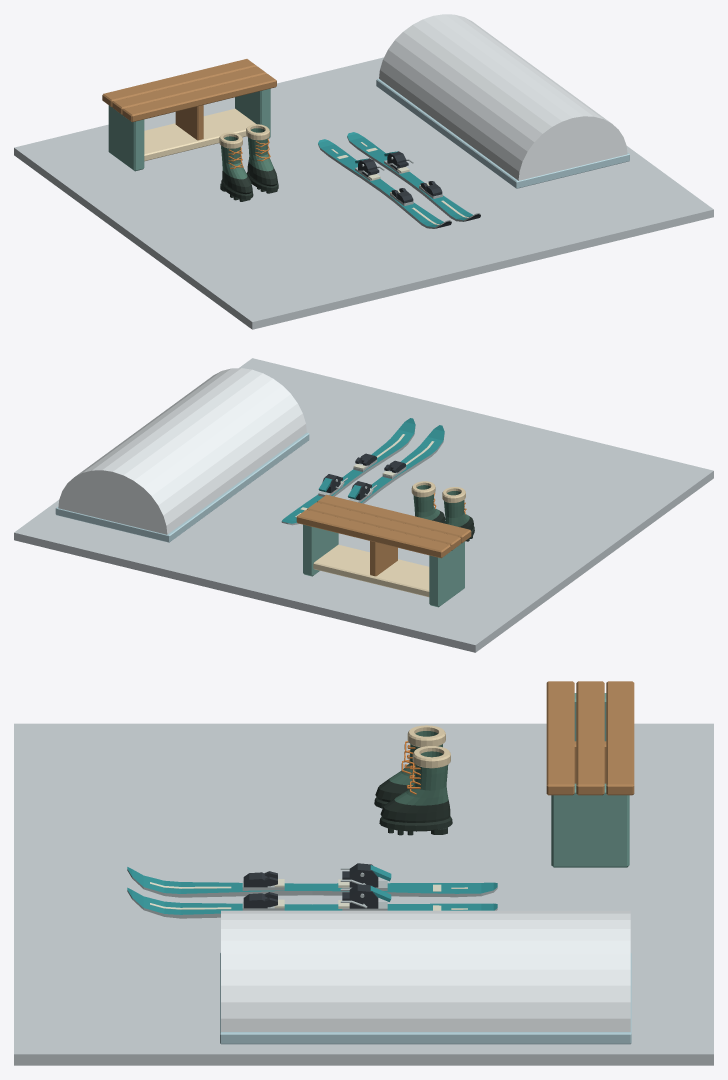
3 renders of one model, top to bottom at view 1: azimuth 30°, elevation 25°; view 2: azimuth 150°, elevation 25°; view 3: azimuth 270°, elevation 25°, orthographic. The views are drawn at different scales.
Visible parts, largest first — view 1: SCENE_ONLY__SnowPreparationPad, whole_snow_boundary__winter-snowbank-01, whole_preparation_bench__entryway-storage-bench-01, whole_staged_ski_pair__Ski_Right_Board, whole_staged_ski_pair__Ski_Left_Board, whole_set_aside_snow_boots__Right_HollowShell, whole_set_aside_snow_boots__Left_HollowShell; view 2: SCENE_ONLY__SnowPreparationPad, whole_snow_boundary__winter-snowbank-01, whole_preparation_bench__entryway-storage-bench-01, whole_staged_ski_pair__Ski_Right_Board, whole_staged_ski_pair__Ski_Left_Board, whole_set_aside_snow_boots__Left_HollowShell, whole_set_aside_snow_boots__Right_HollowShell; view 3: SCENE_ONLY__SnowPreparationPad, whole_snow_boundary__winter-snowbank-01, whole_preparation_bench__entryway-storage-bench-01, whole_staged_ski_pair__Ski_Left_Board, whole_set_aside_snow_boots__Right_HollowShell, whole_staged_ski_pair__Ski_Right_Board, whole_set_aside_snow_boots__Left_HollowShell, whole_set_aside_snow_boots__Right_FoldedCuff, whole_set_aside_snow_boots__Left_FoldedCuff, whole_set_aside_snow_boots__Right_LayeredSole.
Part boxes in pixels (left/top/right/bottom): SCENE_ONLY__SnowPreparationPad: left=14, top=57, right=713, bottom=329; whole_snow_boundary__winter-snowbank-01: left=376, top=14, right=629, bottom=188; whole_preparation_bench__entryway-storage-bench-01: left=102, top=59, right=276, bottom=171; whole_staged_ski_pair__Ski_Right_Board: left=347, top=132, right=480, bottom=221; whole_staged_ski_pair__Ski_Left_Board: left=318, top=139, right=451, bottom=228; whole_set_aside_snow_boots__Right_HollowShell: left=247, top=128, right=277, bottom=186; whole_set_aside_snow_boots__Left_HollowShell: left=221, top=136, right=252, bottom=194; SCENE_ONLY__SnowPreparationPad: left=14, top=358, right=713, bottom=652; whole_snow_boundary__winter-snowbank-01: left=55, top=368, right=309, bottom=542; whole_preparation_bench__entryway-storage-bench-01: left=296, top=494, right=471, bottom=607; whole_staged_ski_pair__Ski_Right_Board: left=281, top=418, right=415, bottom=525; whole_staged_ski_pair__Ski_Left_Board: left=360, top=425, right=444, bottom=503; whole_set_aside_snow_boots__Left_HollowShell: left=444, top=491, right=473, bottom=530; whole_set_aside_snow_boots__Right_HollowShell: left=413, top=485, right=445, bottom=523; SCENE_ONLY__SnowPreparationPad: left=14, top=723, right=713, bottom=1065; whole_snow_boundary__winter-snowbank-01: left=220, top=910, right=631, bottom=1044; whole_preparation_bench__entryway-storage-bench-01: left=546, top=681, right=634, bottom=867; whole_staged_ski_pair__Ski_Left_Board: left=127, top=867, right=497, bottom=897; whole_set_aside_snow_boots__Right_HollowShell: left=380, top=751, right=450, bottom=822; whole_staged_ski_pair__Ski_Right_Board: left=127, top=887, right=497, bottom=918; whole_set_aside_snow_boots__Left_HollowShell: left=375, top=731, right=442, bottom=802; whole_set_aside_snow_boots__Right_FoldedCuff: left=412, top=746, right=450, bottom=768; whole_set_aside_snow_boots__Left_FoldedCuff: left=407, top=725, right=445, bottom=747; whole_set_aside_snow_boots__Right_LayeredSole: left=379, top=816, right=452, bottom=831.
Bounding box in the file's own units: 3.8 × 0.525 × 3.4.
